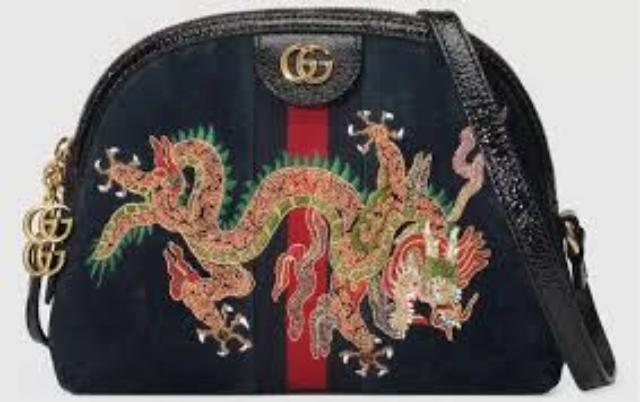Gucci: (278, 39, 348, 89), (24, 190, 74, 242), (22, 233, 68, 288)
